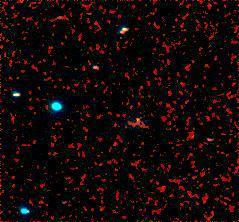star: (129, 108, 159, 138)
